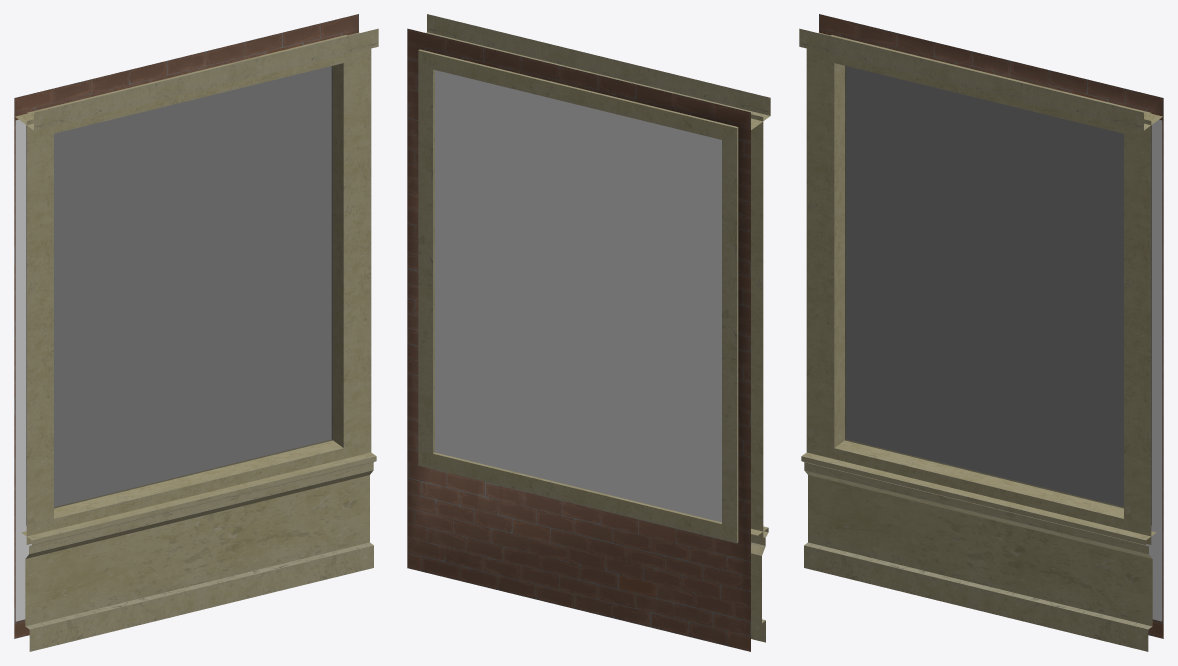
File: Trim_FirstFloor_Window_001.gltf
3 views of the same model, side by side, from view 1: azimuth 30°, elevation 25°; view 2: azimuth 150°, elevation 25°; view 3: azimuth 330°, elevation 25° (orthographic).
Parts seen in each view (by area): view 1: Trim_FirstFloor_Window.001; view 2: Trim_FirstFloor_Window.001; view 3: Trim_FirstFloor_Window.001.
Part boxes in pixels (left/top/right/bottom): Trim_FirstFloor_Window.001: left=14, top=14, right=378, bottom=651; Trim_FirstFloor_Window.001: left=407, top=14, right=770, bottom=651; Trim_FirstFloor_Window.001: left=799, top=14, right=1163, bottom=651.
Bounding box in the file's own units: 2 × 3.01 × 0.2151.
4 materials, 2 textured.
